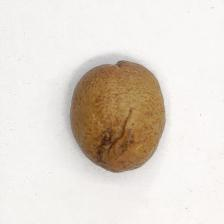NG: (87, 107, 133, 166)
